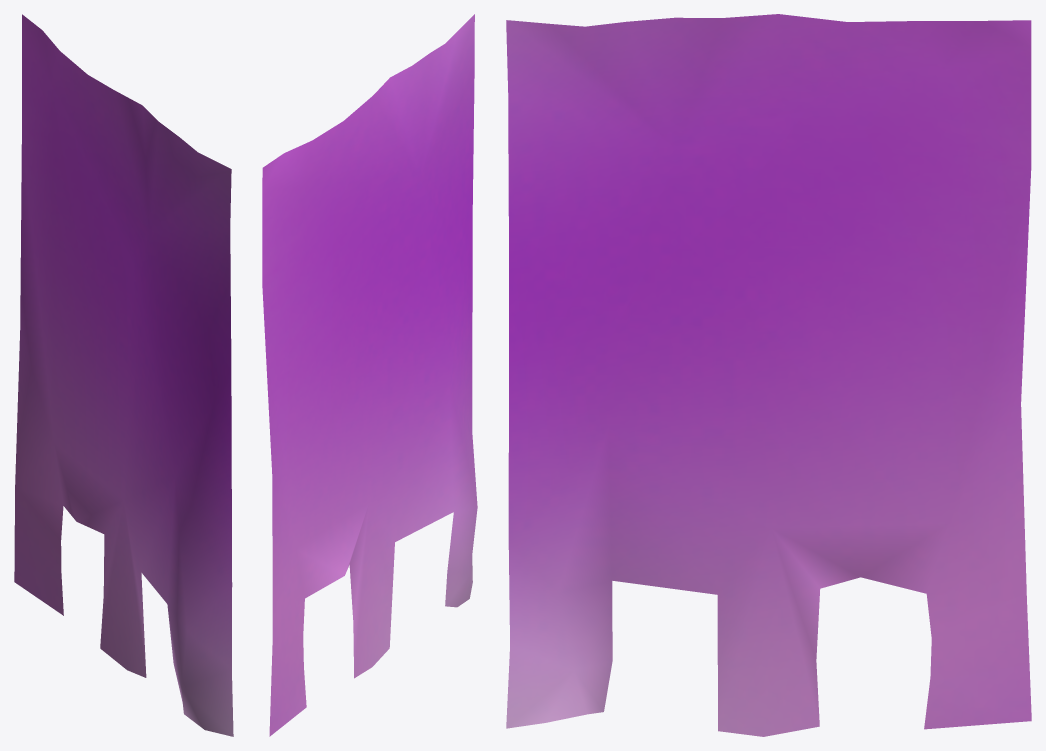
The model's file is SM_FlagGurland_01c.fbx.
The picture shows the model from 3 angles, left to right: view 1: azimuth 30°, elevation 25°; view 2: azimuth 150°, elevation 25°; view 3: azimuth 270°, elevation 25°; orthographic projection. The views are drawn at different scales.
Visible parts, largest first — view 1: SM_FlagGurland_01c_LOD0; view 2: SM_FlagGurland_01c_LOD0; view 3: SM_FlagGurland_01c_LOD0.
Boxes of the visible parts, bbox=[...] form: SM_FlagGurland_01c_LOD0: bbox=[14, 14, 233, 736]; SM_FlagGurland_01c_LOD0: bbox=[262, 14, 477, 736]; SM_FlagGurland_01c_LOD0: bbox=[506, 14, 1031, 736].
Bounding box in the file's own units: 5.36 × 76.75 × 116.
